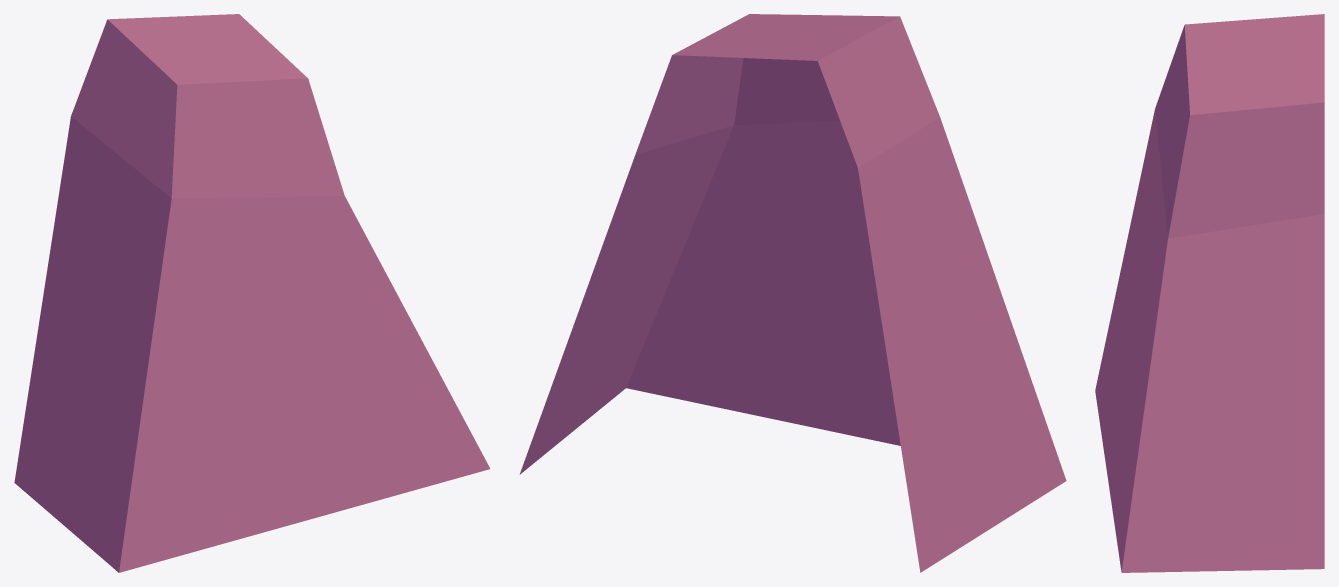
The model's file is Module_Rock_Mesh_07_v01.fbx.
3 renders of one model, left to right at view 1: azimuth 30°, elevation 25°; view 2: azimuth 150°, elevation 25°; view 3: azimuth 270°, elevation 25°, orthographic. The views are drawn at different scales.
Parts seen in each view (by area): view 1: Module_Rock_Mesh_07_v01; view 2: Module_Rock_Mesh_07_v01; view 3: Module_Rock_Mesh_07_v01.
Part boxes in pixels (<box>): Module_Rock_Mesh_07_v01: <box>14,14,490,572</box>; Module_Rock_Mesh_07_v01: <box>519,14,1066,572</box>; Module_Rock_Mesh_07_v01: <box>1095,14,1324,572</box>.
Size of the model in its own units: 63.82 by 69.81 by 34.
